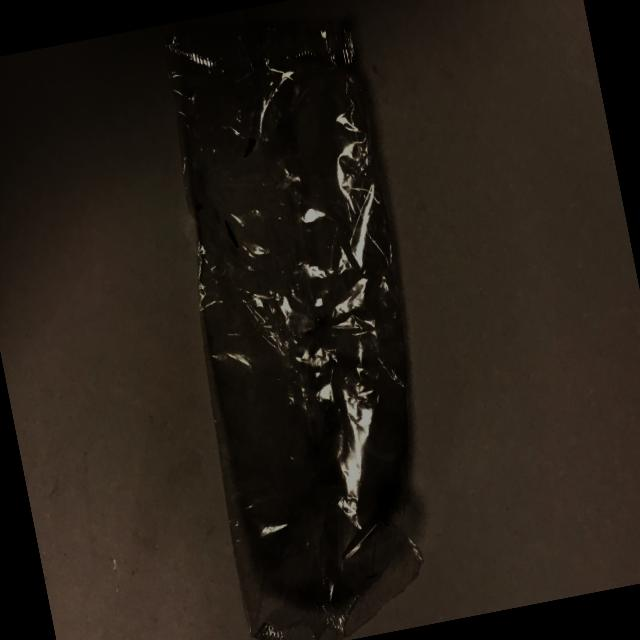Plastic: (101, 0, 482, 640)
